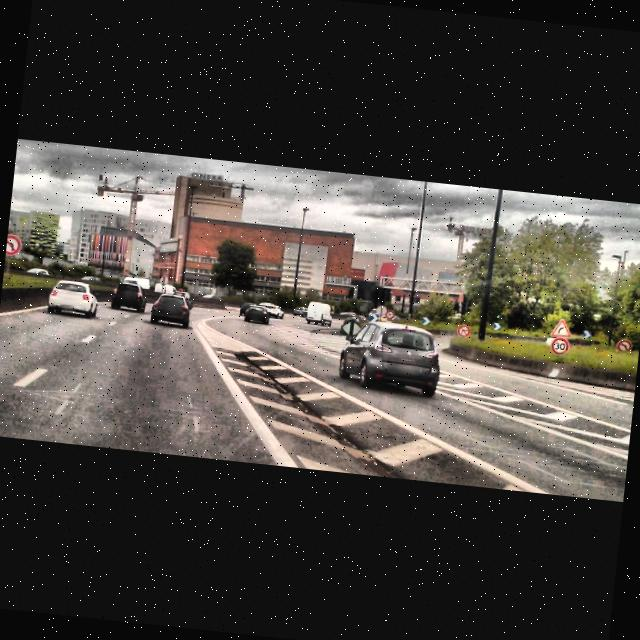speed_30: (550, 338, 570, 356)
